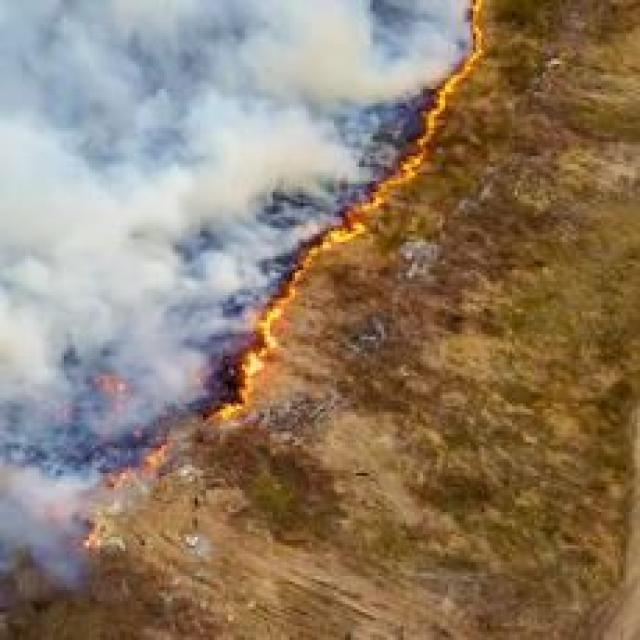Smoke: (0, 0, 472, 546)
